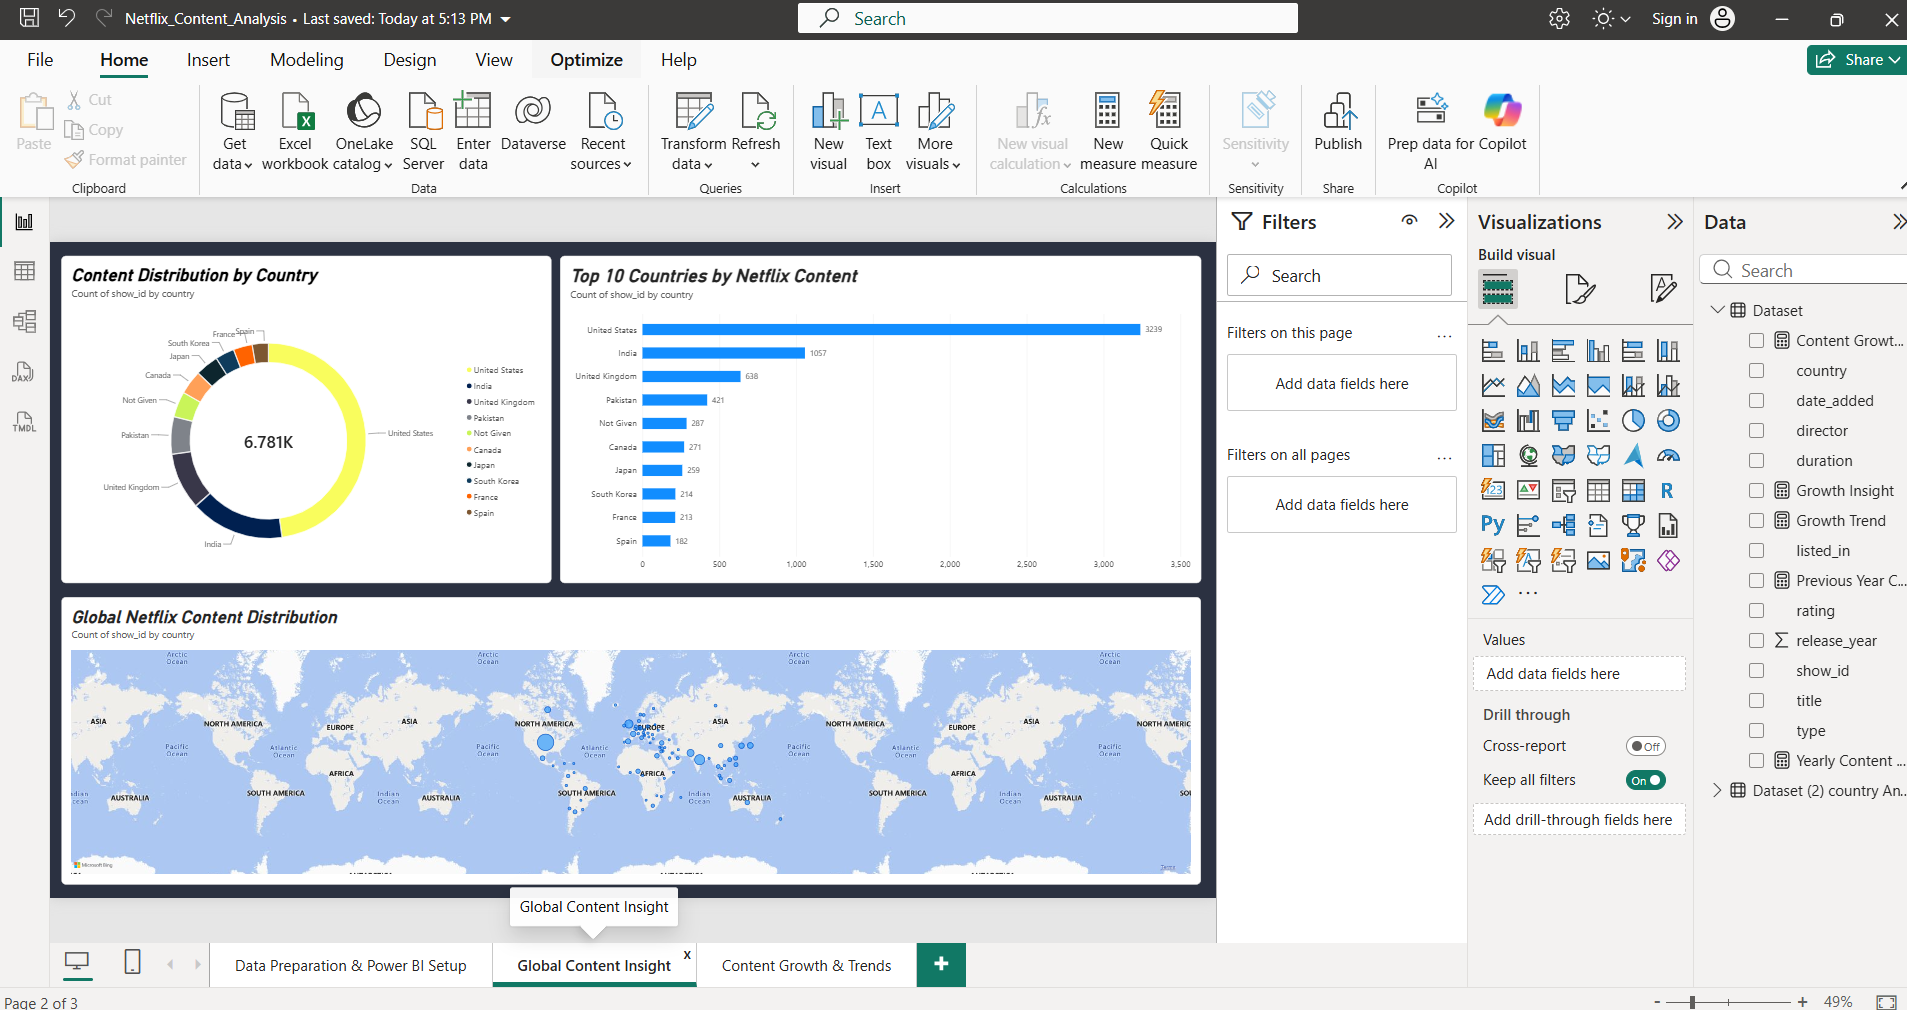

The page's visual inventory and layout, read from the dashboard file:
{"tool":"powerbi","page":{"name":"Global Content Insight","canvas":[1920,1080],"ordinal":1},"visuals":[{"type":"donutChart","title":"Content Distribution by Country","fields":{"Category":["Dataset.country"],"Y":["Count(Dataset.show_id)"]},"box":[18.5,22.6,806.9,539.3],"z":0},{"type":"map","title":"Global Netflix Content Distribution","fields":{"Category":["Dataset.country"],"Size":["CountNonNull(Dataset.show_id)"]},"box":[18.5,584.6,1877.2,473.4],"z":1000},{"type":"clusteredBarChart","title":"Top 10 Countries by Netflix Content","fields":{"Category":["Dataset.country"],"Y":["Count(Dataset.show_id)"]},"box":[839.8,22.6,1055.9,539.3],"z":2000}]}

Visuals, with their boxes on the page's 1920x1080 design canvas (x1, y1, x2, y2). These are canvas units, not pixel positions in the 1907x1010 screenshot, which may show the page scaled, cropped or inside an application window:
"Content Distribution by Country" donutChart: l=18, t=23, r=825, b=562
"Global Netflix Content Distribution" map: l=18, t=585, r=1896, b=1058
"Top 10 Countries by Netflix Content" clusteredBarChart: l=840, t=23, r=1896, b=562
